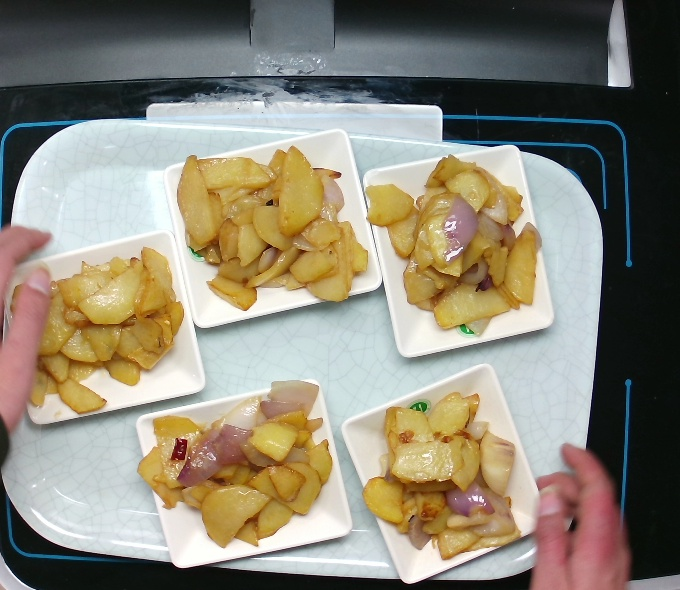wcq-TuDouPian: (136, 378, 337, 548), (367, 152, 546, 336), (5, 239, 184, 423), (172, 146, 369, 307), (361, 391, 525, 559)
